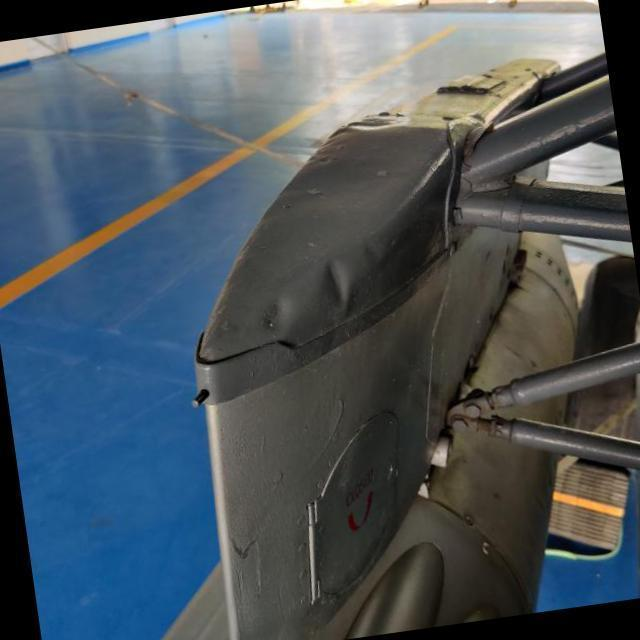Dent: (313, 248, 369, 324), (247, 284, 306, 349)
